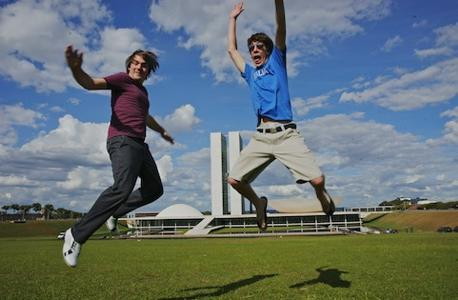person: (54, 43, 176, 265)
